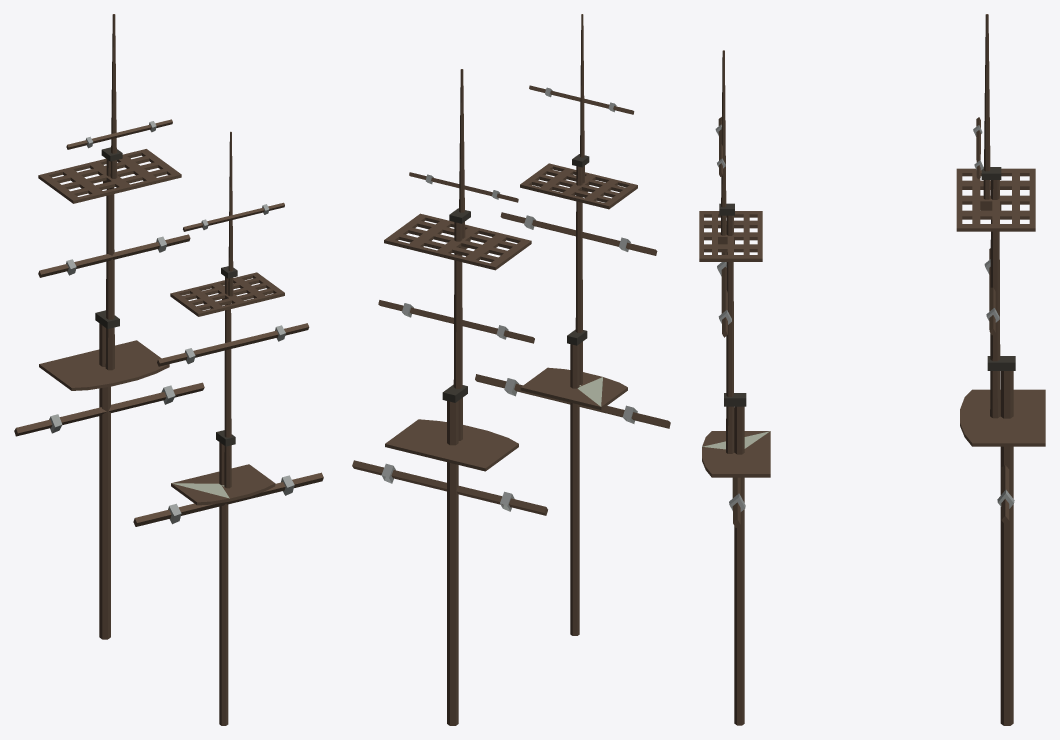
File: masts.fbx
3 views of the same model, side by side, from view 1: azimuth 30°, elevation 25°; view 2: azimuth 150°, elevation 25°; view 3: azimuth 270°, elevation 25° (orthographic). The views are drawn at different scales.
Parts seen in each view (by area): view 1: polySurface541, polySurface590; view 2: polySurface541, polySurface590; view 3: polySurface541, polySurface590.
Part boxes in pixels (x1,y1,x2,y2): polySurface541: [14, 14, 204, 639]; polySurface590: [133, 131, 323, 725]; polySurface541: [352, 69, 547, 725]; polySurface590: [475, 14, 670, 635]; polySurface541: [956, 14, 1045, 725]; polySurface590: [699, 50, 770, 725].
Bounding box in the file's own units: 133 × 428 × 190.
1 material, 1 textured.
